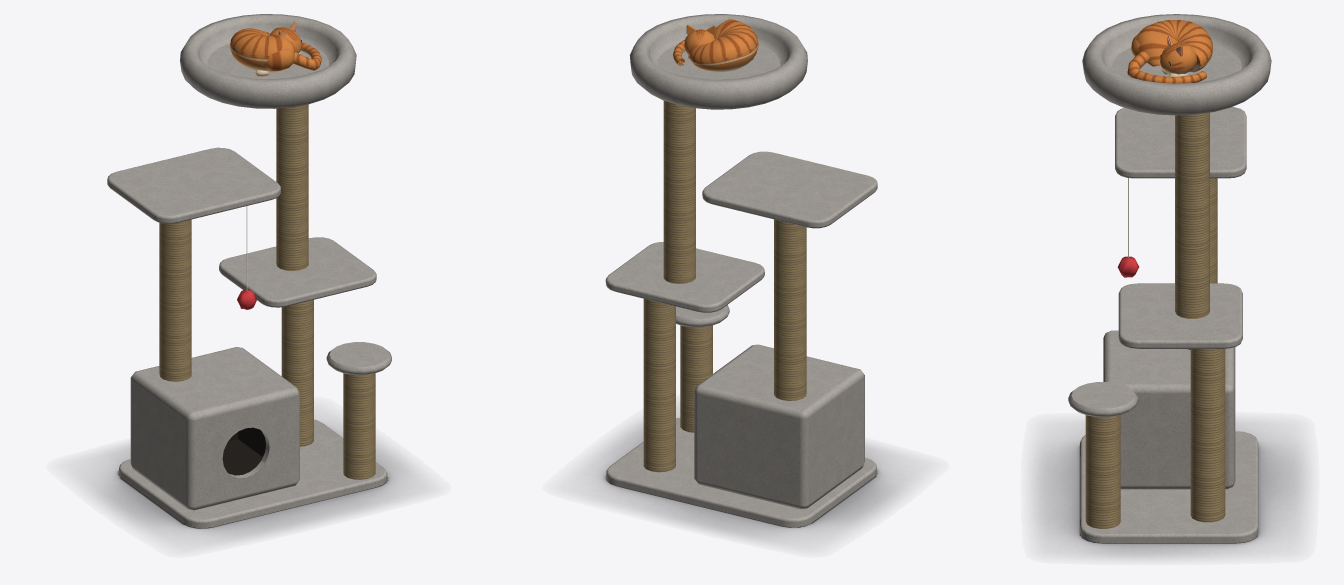
File: cat_tree.glb
The picture shows the model from 3 angles, left to right: view 1: azimuth 30°, elevation 25°; view 2: azimuth 150°, elevation 25°; view 3: azimuth 270°, elevation 25°; orthographic projection. The views are drawn at different scales.
Visible parts, largest first — view 1: cat_tree_LOD0, cat_tree_Shadow; view 2: cat_tree_LOD0, cat_tree_Shadow; view 3: cat_tree_LOD0, cat_tree_Shadow.
Part boxes in pixels (left/top/right/bottom): cat_tree_LOD0: left=107, top=14, right=391, bottom=528; cat_tree_Shadow: left=87, top=418, right=416, bottom=540; cat_tree_LOD0: left=605, top=14, right=877, bottom=527; cat_tree_Shadow: left=585, top=409, right=907, bottom=540; cat_tree_LOD0: left=1068, top=14, right=1271, bottom=543; cat_tree_Shadow: left=1035, top=422, right=1304, bottom=557.
Size of what is drawn, in the model's own units: 1.01 by 1.34 by 0.824.
4 materials, 4 textured.
